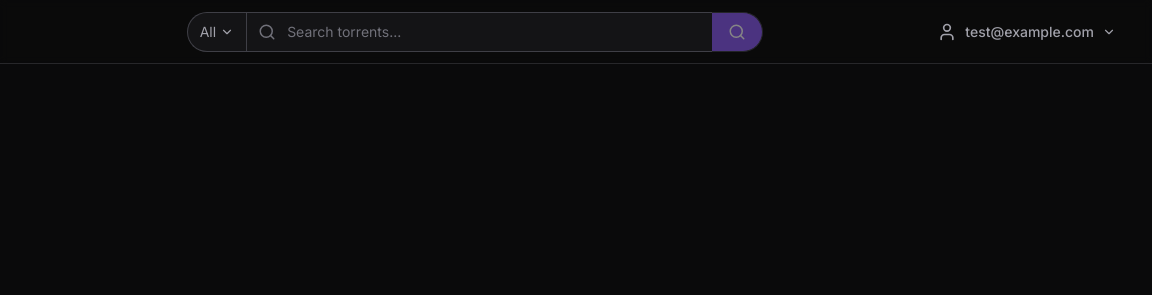
Scenario: Header Component › Logged In State - User Dropdown › should close dropdown when Switch Profile is clicked
Click the button with test id "user-dropdown-trigger" at (1027,32), box [925, 14, 1128, 50]
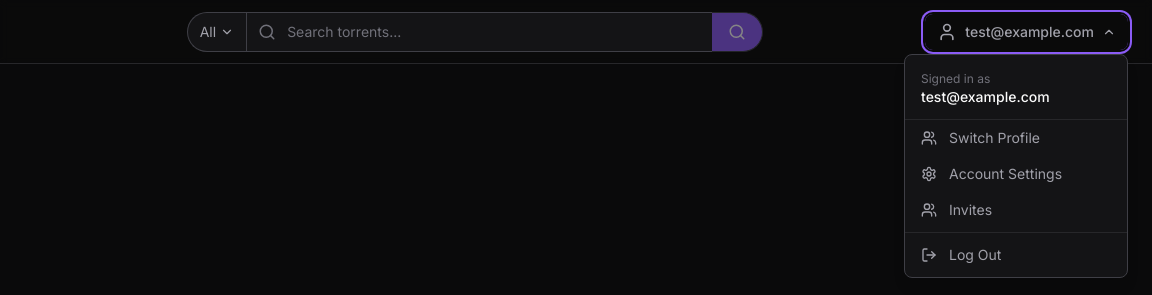
Click the link "Switch Profile" at (980,137), box [921, 128, 1040, 146]
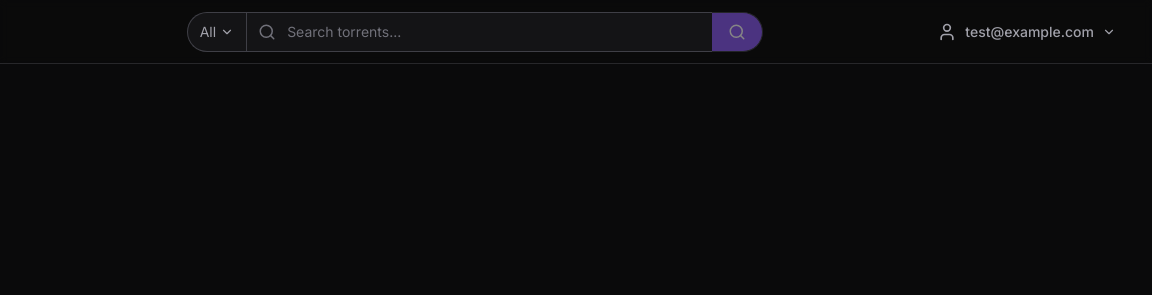
Now the element with test id "user-dropdown-menu" is gone
